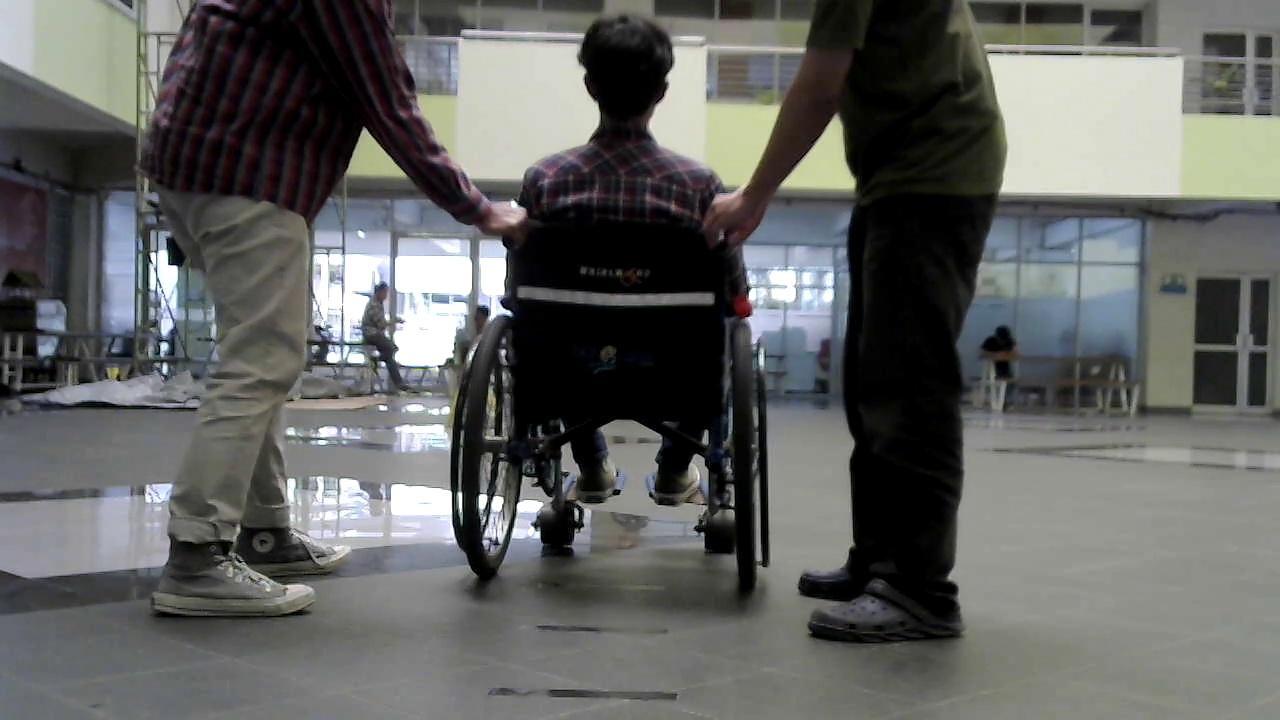person: (137, 2, 526, 620), (700, 1, 1008, 642), (497, 9, 748, 519), (358, 276, 405, 395), (979, 324, 1018, 415)
wheelchair: (431, 197, 797, 607)
